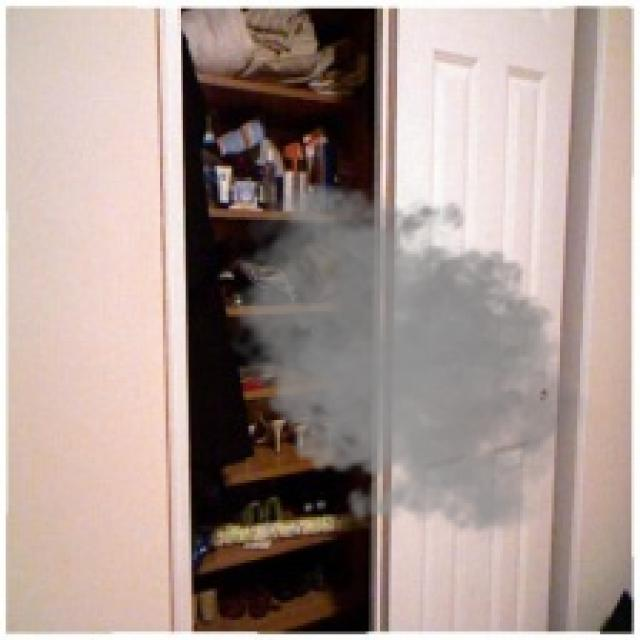smoke: (223, 177, 603, 546)
